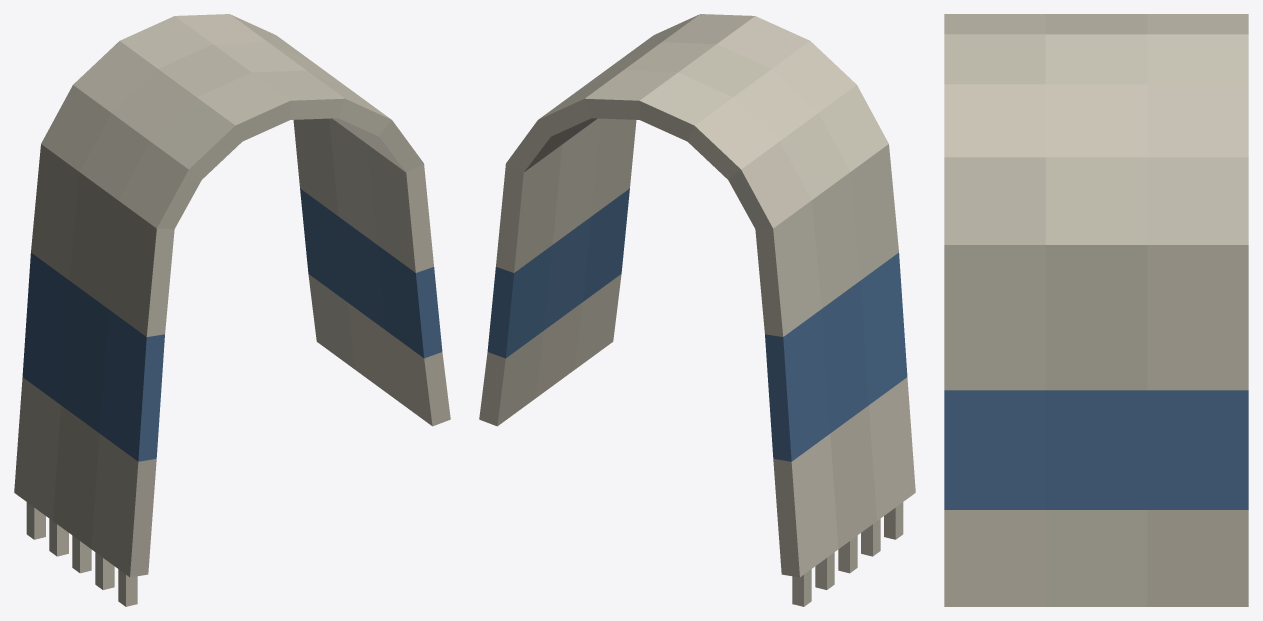
Rendered from held_towel.glb.
3 renders of one model, left to right at view 1: azimuth 30°, elevation 25°; view 2: azimuth 150°, elevation 25°; view 3: azimuth 270°, elevation 25°, orthographic. The views are drawn at different scales.
Parts seen in each view (by area): view 1: held_towel; view 2: held_towel; view 3: held_towel.
Part boxes in pixels (box(x1,y1,x2,y2)): held_towel: box(14, 14, 450, 606); held_towel: box(479, 14, 915, 606); held_towel: box(944, 14, 1248, 606).
Size of the model in its own units: 0.3838 by 0.542 by 0.24.
